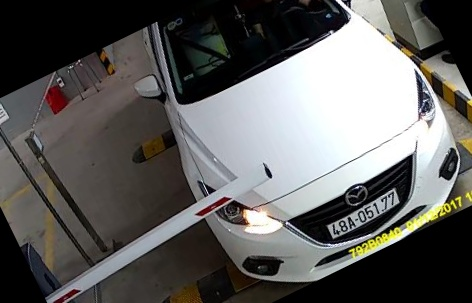plate: (317, 190, 405, 244)
